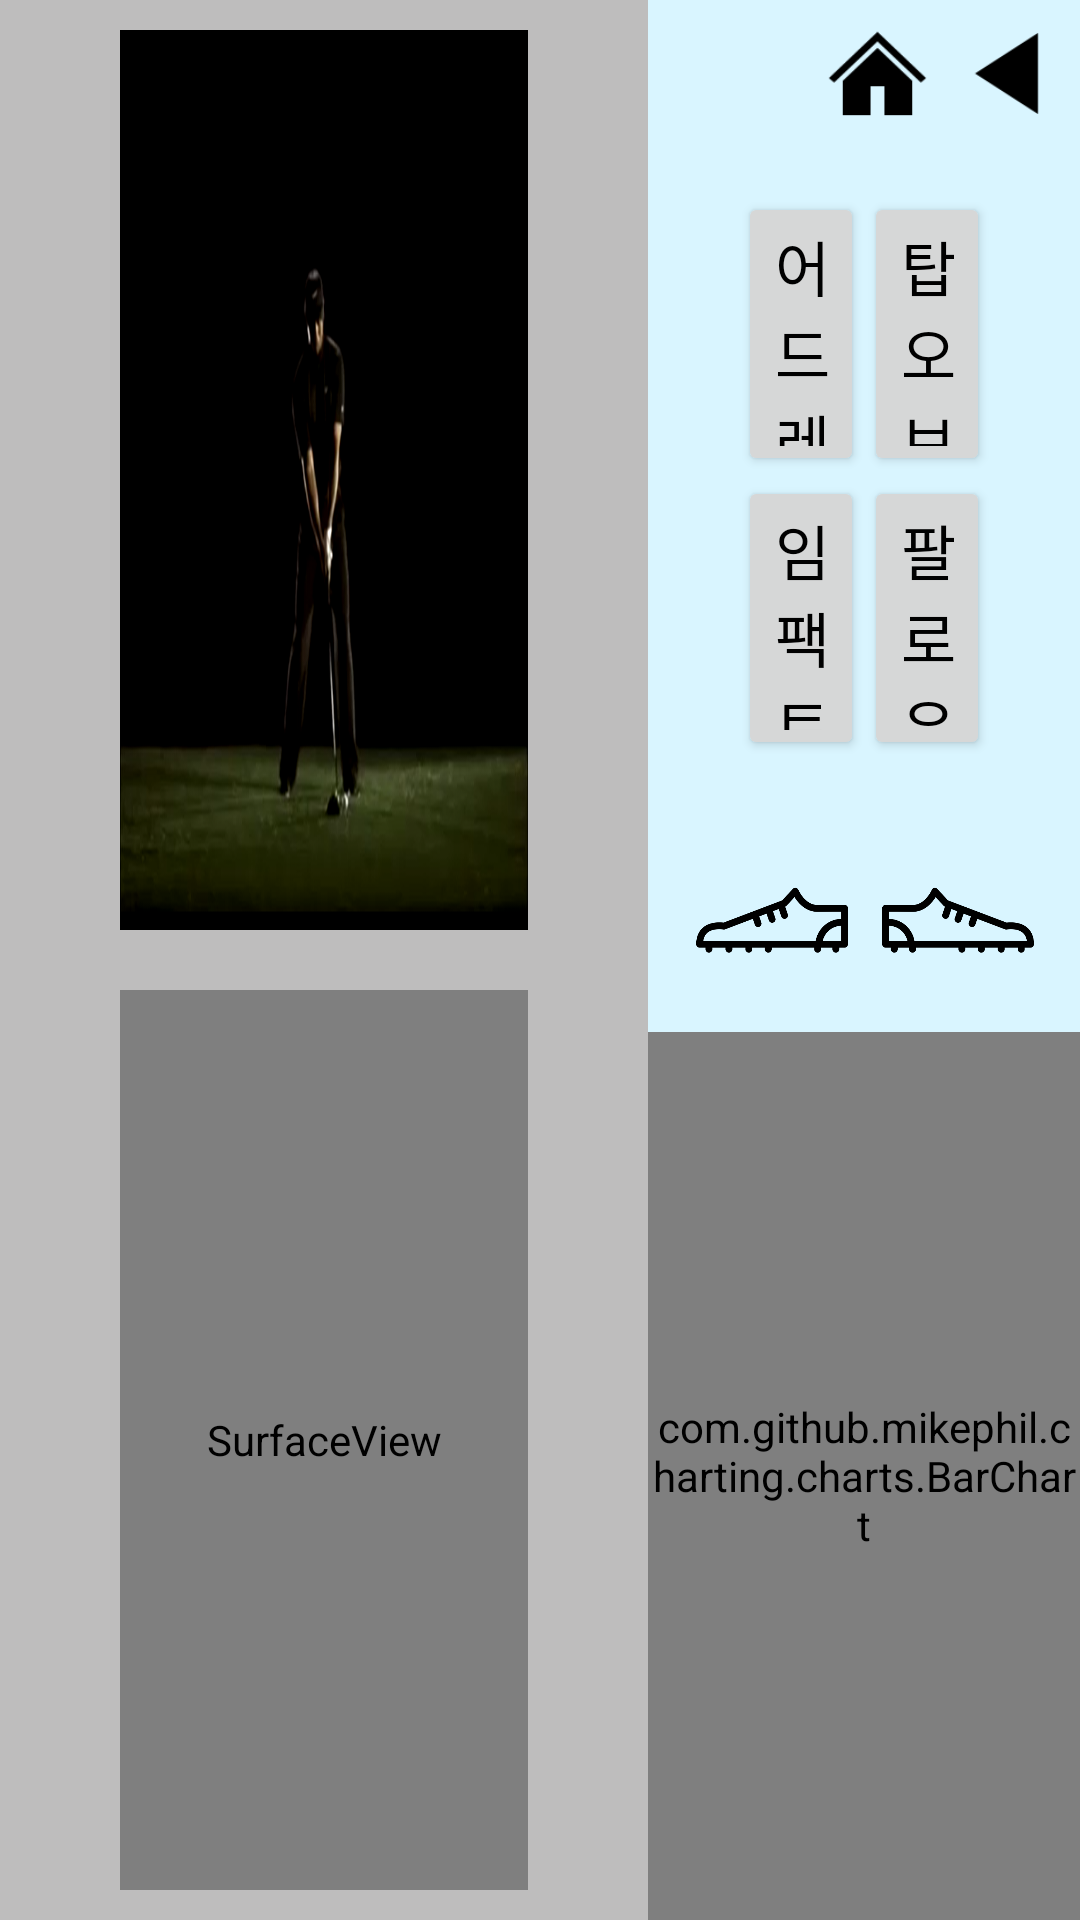

Icons on this 1080x1920 Android screen, each with the point to tap as [x,y]:
back: [1007,73]
foot left: [772,920]
foot right: [958,920]
home: [877,73]
